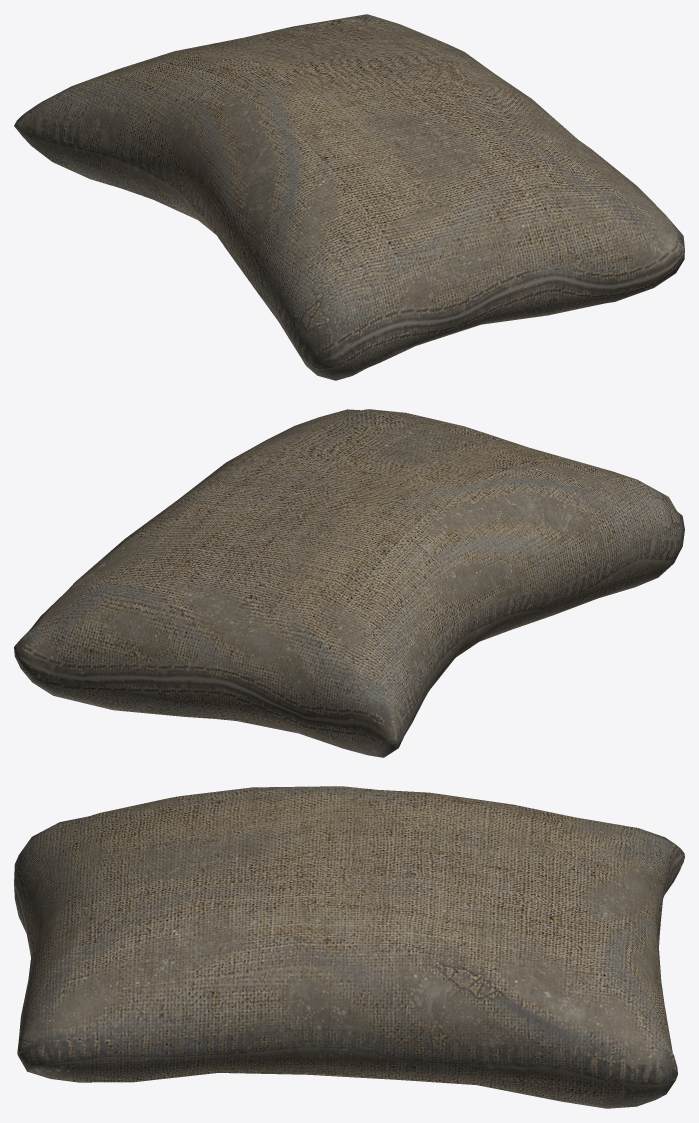
The model's file is Sack 1.fbx.
3 renders of one model, top to bottom at view 1: azimuth 30°, elevation 25°; view 2: azimuth 150°, elevation 25°; view 3: azimuth 270°, elevation 25°, orthographic. The views are drawn at different scales.
Parts seen in each view (by area): view 1: Sack; view 2: Sack; view 3: Sack.
Part boxes in pixels (x1=…): Sack: x1=14, y1=14, x2=684, y2=380; Sack: x1=14, y1=409, x2=684, y2=757; Sack: x1=14, y1=786, x2=684, y2=1108.
Bounding box in the file's own units: 1.68 × 0.7345 × 2.26.
1 material, 1 textured.
